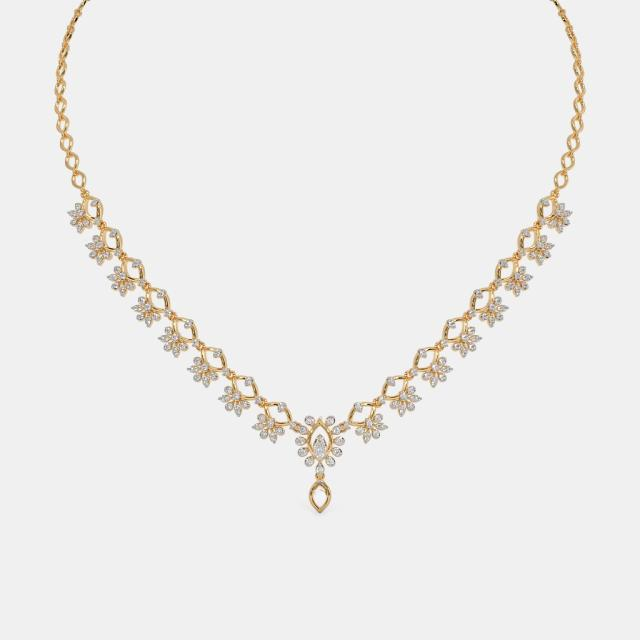missing gem: (314, 486, 328, 507)
